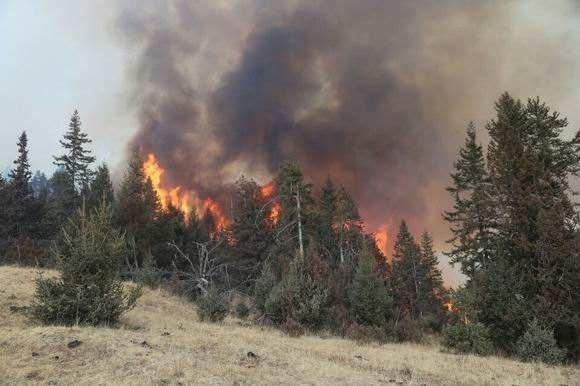fire: (141, 154, 239, 240), (339, 218, 394, 259)
